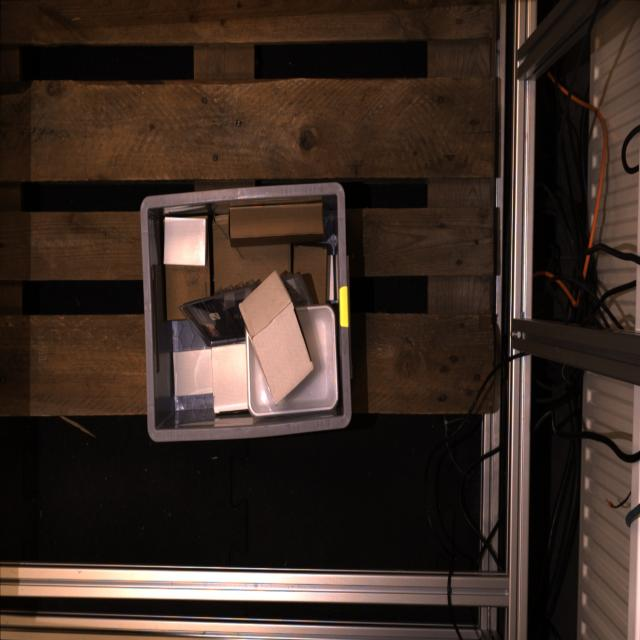CardboardBox: (238, 270, 314, 405), (213, 214, 290, 291), (229, 202, 323, 245), (212, 342, 249, 413), (164, 265, 210, 321), (292, 246, 328, 305), (164, 217, 206, 265), (173, 349, 213, 397), (329, 255, 335, 302)
ItemPackaging: (179, 289, 246, 347), (280, 268, 317, 309)
PlasticContainer: (246, 306, 339, 415)
